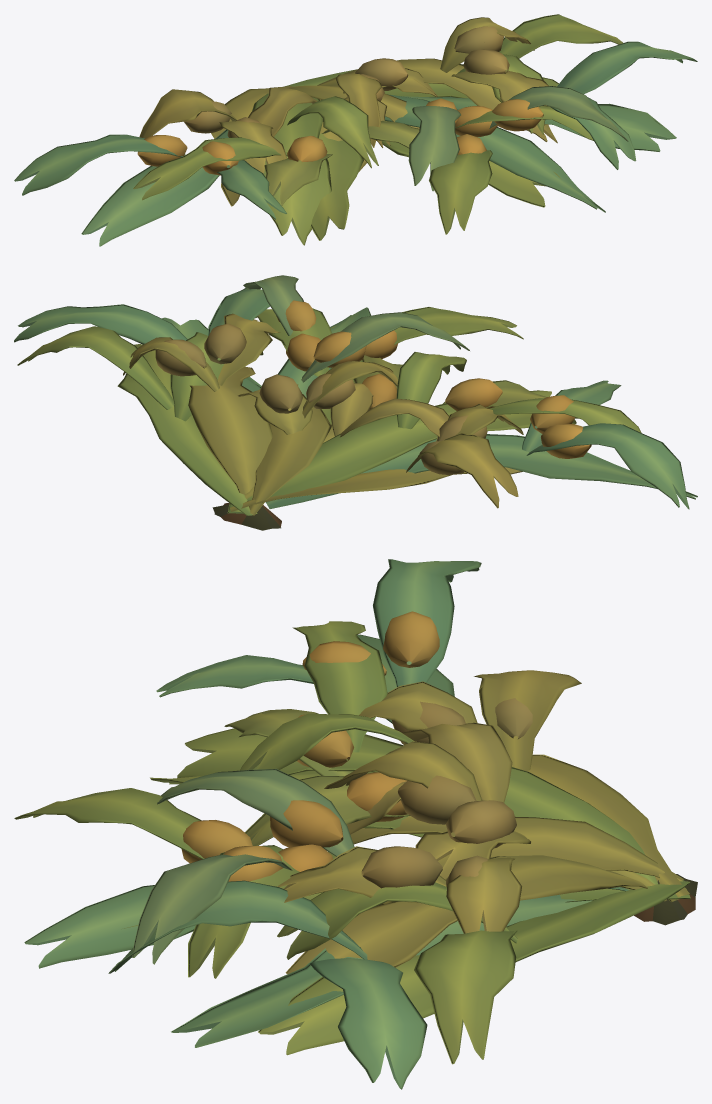
Rendered from lace-forms-near.glb.
The picture shows the model from 3 angles, top to bottom: view 1: azimuth 30°, elevation 25°; view 2: azimuth 150°, elevation 25°; view 3: azimuth 270°, elevation 25°; orthographic projection. The views are drawn at different scales.
Visible parts, largest first — view 1: Bladderlace2, Bladderlace1, Bladderlace3; view 2: Bladderlace3, Bladderlace1, Bladderlace2; view 3: Bladderlace1, Bladderlace3, Bladderlace2.
Boxes of the visible parts, x1,y1,x2,y2 form: Bladderlace2: [14, 41, 697, 246]; Bladderlace1: [133, 14, 622, 245]; Bladderlace3: [139, 17, 557, 206]; Bladderlace3: [123, 313, 523, 526]; Bladderlace1: [17, 307, 641, 530]; Bladderlace2: [14, 275, 697, 528]; Bladderlace1: [14, 621, 697, 1064]; Bladderlace3: [277, 670, 695, 974]; Bladderlace2: [24, 559, 687, 1089].
Size of the model in its own units: 1.71 by 0.2192 by 1.01.
